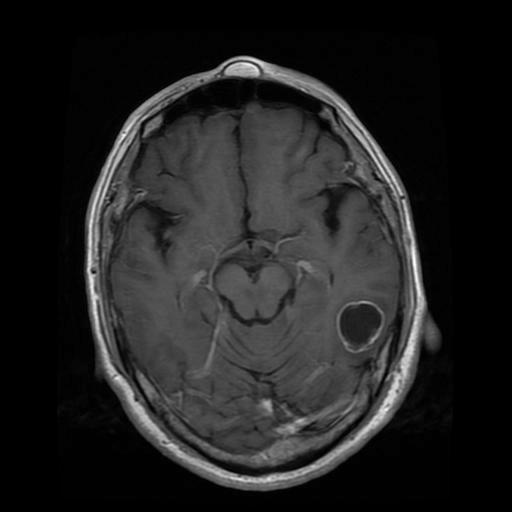Tumour-Glioma: (345, 287, 380, 363)
